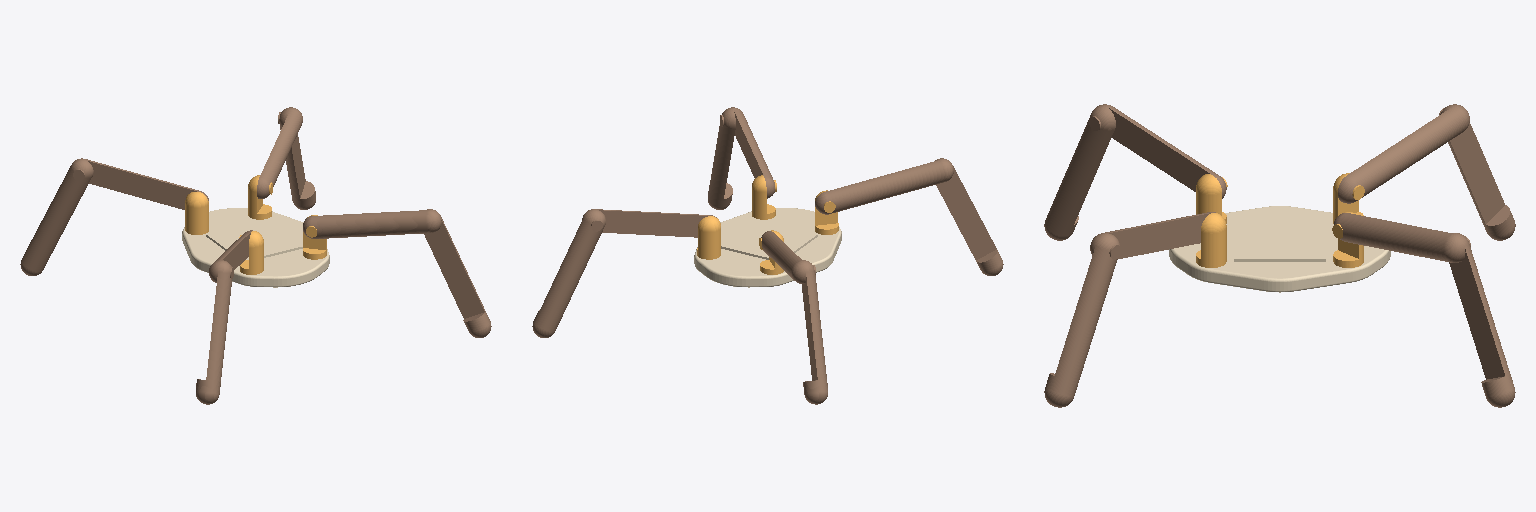
robot.urdf — droid:
<?xml version="1.0" ?>
<!-- Generated using onshape-to-robot -->
<!-- Onshape https://cad.onshape.com/documents/39d48276447cd48c86498015/w/39b3d8215a40ceebd5846695/e/a41b11f439c5da9336695592 -->
<robot name="droid">
  <!-- Link base_link -->
  <link name="base_link">
    <inertial>
      <origin xyz="0 0 0" rpy="0 0 0"/>
      <mass value="1e-09"/>
      <inertia ixx="1e-09" ixy="0" ixz="0" iyy="1e-09" iyz="0" izz="1e-09"/>
    </inertial>
  </link>
  <!-- Link body -->
  <link name="body">
    <inertial>
      <origin xyz="0 -0 0.00260792" rpy="0 0 0"/>
      <mass value="0.0199018"/>
      <inertia ixx="6.11183e-06" ixy="0" ixz="0" iyy="3.7272e-06" iyz="0" izz="9.7415e-06"/>
    </inertial>
    <!-- Part body -->
    <visual>
      <origin xyz="0.0202915 -0 0" rpy="0 -0 0"/>
      <geometry>
        <mesh filename="package://speeder_description/assets/body.stl"/>
      </geometry>
      <material name="body_material">
        <color rgba="0.952941 0.894118 0.788235 1"/>
      </material>
    </visual>
    <collision>
      <origin xyz="0.0202915 -0 0" rpy="0 -0 0"/>
      <geometry>
        <mesh filename="package://speeder_description/assets/body.stl"/>
      </geometry>
    </collision>
  </link>
  <!-- Link base_arm -->
  <link name="base_arm">
    <inertial>
      <origin xyz="0 -0.000821445 -0.00846774" rpy="0 0 0"/>
      <mass value="0.00126809"/>
      <inertia ixx="4.8105e-08" ixy="0" ixz="-0" iyy="4.813e-08" iyz="-2.117e-09" izz="1.4267e-08"/>
    </inertial>
    <!-- Part base_arm -->
    <visual>
      <origin xyz="0.0411943 -0.00227465 0" rpy="3.14159 -0 0"/>
      <geometry>
        <mesh filename="package://speeder_description/assets/base_arm.stl"/>
      </geometry>
      <material name="base_arm_material">
        <color rgba="1 0.772549 0.439216 1"/>
      </material>
    </visual>
    <collision>
      <origin xyz="0.0411943 -0.00227465 0" rpy="3.14159 -0 0"/>
      <geometry>
        <mesh filename="package://speeder_description/assets/base_arm.stl"/>
      </geometry>
    </collision>
  </link>
  <!-- Link first_leg_1 -->
  <link name="first_leg_1">
    <inertial>
      <origin xyz="1.1904e-08 -0.0271462 0.00315744" rpy="0 0 0"/>
      <mass value="0.00278753"/>
      <inertia ixx="7.46524e-07" ixy="0" ixz="0" iyy="2.4267e-08" iyz="1.1974e-08" izz="7.56242e-07"/>
    </inertial>
    <!-- Part arm1 -->
    <visual>
      <origin xyz="0.0211943 0.015 -0.00518933" rpy="1.5708 -0 -0"/>
      <geometry>
        <mesh filename="package://speeder_description/assets/arm1.stl"/>
      </geometry>
      <material name="arm1_material">
        <color rgba="0.662745 0.545098 0.462745 1"/>
      </material>
    </visual>
    <collision>
      <origin xyz="0.0211943 0.015 -0.00518933" rpy="1.5708 -0 -0"/>
      <geometry>
        <mesh filename="package://speeder_description/assets/arm1.stl"/>
      </geometry>
    </collision>
  </link>
  <!-- Link second_leg_1 -->
  <link name="second_leg_1">
    <inertial>
      <origin xyz="-1.008e-09 -0.0291753 0.00350177" rpy="0 0 0"/>
      <mass value="0.00307395"/>
      <inertia ixx="8.76015e-07" ixy="0" ixz="-0" iyy="3.0359e-08" iyz="3.2666e-08" izz="8.83959e-07"/>
    </inertial>
    <!-- Part arm2 -->
    <visual>
      <origin xyz="0.0411943 -0.065 0.00276138" rpy="-1.5708 0 0"/>
      <geometry>
        <mesh filename="package://speeder_description/assets/arm2.stl"/>
      </geometry>
      <material name="arm2_material">
        <color rgba="0.662745 0.545098 0.462745 1"/>
      </material>
    </visual>
    <collision>
      <origin xyz="0.0411943 -0.065 0.00276138" rpy="-1.5708 0 0"/>
      <geometry>
        <mesh filename="package://speeder_description/assets/arm2.stl"/>
      </geometry>
    </collision>
  </link>
  <!-- Joint from first_leg_1 to second_leg_1 -->
  <joint name="second_leg_1" type="revolute">
    <origin xyz="-0 -0.05 0.010036" rpy="-3.14159 0 -1.8326"/>
    <parent link="first_leg_1"/>
    <child link="second_leg_1"/>
    <axis xyz="0 0 1"/>
    <limit effort="10" velocity="10" lower="-1.5708" upper="1.13446"/>
  </joint>
  <!-- Joint from base_arm to first_leg_1 -->
  <joint name="first_leg_1" type="revolute">
    <origin xyz="-0 0.005 -0.015" rpy="1.5708 -1.39626 -0"/>
    <parent link="base_arm"/>
    <child link="first_leg_1"/>
    <axis xyz="0 0 1"/>
    <limit effort="10" velocity="10" lower="-1.22173" upper="0.785398"/>
  </joint>
  <!-- Joint from body to base_arm -->
  <joint name="base_leg_1" type="revolute">
    <origin xyz="-0.015 -0.0225 0.0025" rpy="-3.14159 -0 -2.35619"/>
    <parent link="body"/>
    <child link="base_arm"/>
    <axis xyz="0 0 1"/>
    <limit effort="10" velocity="10" lower="-1.39626" upper="1.39626"/>
  </joint>
  <!-- Link base_arm_2 -->
  <link name="base_arm_2">
    <inertial>
      <origin xyz="0 -0.000821445 -0.00846774" rpy="0 0 0"/>
      <mass value="0.00126809"/>
      <inertia ixx="4.8105e-08" ixy="-0" ixz="0" iyy="4.813e-08" iyz="-2.117e-09" izz="1.4267e-08"/>
    </inertial>
    <!-- Part base_arm_2 -->
    <visual>
      <origin xyz="0.0411943 -0.00227465 0" rpy="3.14159 -0 -0"/>
      <geometry>
        <mesh filename="package://speeder_description/assets/base_arm.stl"/>
      </geometry>
      <material name="base_arm_2_material">
        <color rgba="1 0.772549 0.439216 1"/>
      </material>
    </visual>
    <collision>
      <origin xyz="0.0411943 -0.00227465 0" rpy="3.14159 -0 -0"/>
      <geometry>
        <mesh filename="package://speeder_description/assets/base_arm.stl"/>
      </geometry>
    </collision>
  </link>
  <!-- Link first_leg_2 -->
  <link name="first_leg_2">
    <inertial>
      <origin xyz="1.1904e-08 -0.0271462 0.00315744" rpy="0 0 0"/>
      <mass value="0.00278753"/>
      <inertia ixx="7.46524e-07" ixy="0" ixz="0" iyy="2.4267e-08" iyz="1.1974e-08" izz="7.56242e-07"/>
    </inertial>
    <!-- Part arm1_2 -->
    <visual>
      <origin xyz="0.0211943 0.015 -0.00518933" rpy="1.5708 -0 -0"/>
      <geometry>
        <mesh filename="package://speeder_description/assets/arm1.stl"/>
      </geometry>
      <material name="arm1_2_material">
        <color rgba="0.662745 0.545098 0.462745 1"/>
      </material>
    </visual>
    <collision>
      <origin xyz="0.0211943 0.015 -0.00518933" rpy="1.5708 -0 -0"/>
      <geometry>
        <mesh filename="package://speeder_description/assets/arm1.stl"/>
      </geometry>
    </collision>
  </link>
  <!-- Link second_leg_2 -->
  <link name="second_leg_2">
    <inertial>
      <origin xyz="-1.008e-09 -0.0291753 0.00350177" rpy="0 0 0"/>
      <mass value="0.00307395"/>
      <inertia ixx="8.76015e-07" ixy="0" ixz="-0" iyy="3.0359e-08" iyz="3.2666e-08" izz="8.83959e-07"/>
    </inertial>
    <!-- Part arm2_2 -->
    <visual>
      <origin xyz="0.0411943 -0.065 0.00276138" rpy="-1.5708 0 -0"/>
      <geometry>
        <mesh filename="package://speeder_description/assets/arm2.stl"/>
      </geometry>
      <material name="arm2_2_material">
        <color rgba="0.662745 0.545098 0.462745 1"/>
      </material>
    </visual>
    <collision>
      <origin xyz="0.0411943 -0.065 0.00276138" rpy="-1.5708 0 -0"/>
      <geometry>
        <mesh filename="package://speeder_description/assets/arm2.stl"/>
      </geometry>
    </collision>
  </link>
  <!-- Joint from first_leg_2 to second_leg_2 -->
  <joint name="second_leg_2" type="revolute">
    <origin xyz="-0 -0.05 0.010036" rpy="3.14159 0 -1.8326"/>
    <parent link="first_leg_2"/>
    <child link="second_leg_2"/>
    <axis xyz="0 0 1"/>
    <limit effort="10" velocity="10" lower="-1.5708" upper="1.13446"/>
  </joint>
  <!-- Joint from base_arm_2 to first_leg_2 -->
  <joint name="first_leg_2" type="revolute">
    <origin xyz="-0 0.005 -0.015" rpy="1.5708 -1.39626 -0"/>
    <parent link="base_arm_2"/>
    <child link="first_leg_2"/>
    <axis xyz="0 0 1"/>
    <limit effort="10" velocity="10" lower="-1.22173" upper="0.785398"/>
  </joint>
  <!-- Joint from body to base_arm_2 -->
  <joint name="base_leg_2" type="revolute">
    <origin xyz="-0.015 0.0225 0.0025" rpy="-3.14159 -0 2.35619"/>
    <parent link="body"/>
    <child link="base_arm_2"/>
    <axis xyz="0 0 1"/>
    <limit effort="10" velocity="10" lower="-1.5708" upper="1.5708"/>
  </joint>
  <!-- Link base_arm_3 -->
  <link name="base_arm_3">
    <inertial>
      <origin xyz="0 -0.000821445 -0.00846774" rpy="0 0 0"/>
      <mass value="0.00126809"/>
      <inertia ixx="4.8105e-08" ixy="0" ixz="-0" iyy="4.813e-08" iyz="-2.117e-09" izz="1.4267e-08"/>
    </inertial>
    <!-- Part base_arm_3 -->
    <visual>
      <origin xyz="0.0411943 -0.00227465 0" rpy="3.14159 0 0"/>
      <geometry>
        <mesh filename="package://speeder_description/assets/base_arm.stl"/>
      </geometry>
      <material name="base_arm_3_material">
        <color rgba="1 0.772549 0.439216 1"/>
      </material>
    </visual>
    <collision>
      <origin xyz="0.0411943 -0.00227465 0" rpy="3.14159 0 0"/>
      <geometry>
        <mesh filename="package://speeder_description/assets/base_arm.stl"/>
      </geometry>
    </collision>
  </link>
  <!-- Link first_leg_3 -->
  <link name="first_leg_3">
    <inertial>
      <origin xyz="1.1904e-08 -0.0271462 0.00315744" rpy="0 0 0"/>
      <mass value="0.00278753"/>
      <inertia ixx="7.46524e-07" ixy="0" ixz="0" iyy="2.4267e-08" iyz="1.1974e-08" izz="7.56242e-07"/>
    </inertial>
    <!-- Part arm1_3 -->
    <visual>
      <origin xyz="0.0211943 0.015 -0.00518933" rpy="1.5708 -0 0"/>
      <geometry>
        <mesh filename="package://speeder_description/assets/arm1.stl"/>
      </geometry>
      <material name="arm1_3_material">
        <color rgba="0.662745 0.545098 0.462745 1"/>
      </material>
    </visual>
    <collision>
      <origin xyz="0.0211943 0.015 -0.00518933" rpy="1.5708 -0 0"/>
      <geometry>
        <mesh filename="package://speeder_description/assets/arm1.stl"/>
      </geometry>
    </collision>
  </link>
  <!-- Link second_leg_3 -->
  <link name="second_leg_3">
    <inertial>
      <origin xyz="-1.008e-09 -0.0291753 0.00350177" rpy="0 0 0"/>
      <mass value="0.00307395"/>
      <inertia ixx="8.76015e-07" ixy="0" ixz="-0" iyy="3.0359e-08" iyz="3.2666e-08" izz="8.83959e-07"/>
    </inertial>
    <!-- Part arm2_3 -->
    <visual>
      <origin xyz="0.0411943 -0.065 0.00276138" rpy="-1.5708 0 -0"/>
      <geometry>
        <mesh filename="package://speeder_description/assets/arm2.stl"/>
      </geometry>
      <material name="arm2_3_material">
        <color rgba="0.662745 0.545098 0.462745 1"/>
      </material>
    </visual>
    <collision>
      <origin xyz="0.0411943 -0.065 0.00276138" rpy="-1.5708 0 -0"/>
      <geometry>
        <mesh filename="package://speeder_description/assets/arm2.stl"/>
      </geometry>
    </collision>
  </link>
  <!-- Joint from first_leg_3 to second_leg_3 -->
  <joint name="second_leg_3" type="revolute">
    <origin xyz="-0 -0.05 0.010036" rpy="3.14159 0 -1.8326"/>
    <parent link="first_leg_3"/>
    <child link="second_leg_3"/>
    <axis xyz="0 0 1"/>
    <limit effort="10" velocity="10" lower="-1.5708" upper="1.13446"/>
  </joint>
  <!-- Joint from base_arm_3 to first_leg_3 -->
  <joint name="first_leg_3" type="revolute">
    <origin xyz="-0 0.005 -0.015" rpy="1.5708 -1.39626 -0"/>
    <parent link="base_arm_3"/>
    <child link="first_leg_3"/>
    <axis xyz="0 0 1"/>
    <limit effort="10" velocity="10" lower="-1.22173" upper="0.785398"/>
  </joint>
  <!-- Joint from body to base_arm_3 -->
  <joint name="base_leg_3" type="revolute">
    <origin xyz="0.015 0.0225 0.0025" rpy="-3.14159 -0 0.785398"/>
    <parent link="body"/>
    <child link="base_arm_3"/>
    <axis xyz="0 0 1"/>
    <limit effort="10" velocity="10" lower="-1.5708" upper="1.5708"/>
  </joint>
  <!-- Link base_arm_4 -->
  <link name="base_arm_4">
    <inertial>
      <origin xyz="0 -0.000821445 -0.00846774" rpy="0 0 0"/>
      <mass value="0.00126809"/>
      <inertia ixx="4.8105e-08" ixy="0" ixz="-0" iyy="4.813e-08" iyz="-2.117e-09" izz="1.4267e-08"/>
    </inertial>
    <!-- Part base_arm_4 -->
    <visual>
      <origin xyz="0.0411943 -0.00227465 0" rpy="3.14159 -0 -0"/>
      <geometry>
        <mesh filename="package://speeder_description/assets/base_arm.stl"/>
      </geometry>
      <material name="base_arm_4_material">
        <color rgba="1 0.772549 0.439216 1"/>
      </material>
    </visual>
    <collision>
      <origin xyz="0.0411943 -0.00227465 0" rpy="3.14159 -0 -0"/>
      <geometry>
        <mesh filename="package://speeder_description/assets/base_arm.stl"/>
      </geometry>
    </collision>
  </link>
  <!-- Link first_leg_4 -->
  <link name="first_leg_4">
    <inertial>
      <origin xyz="1.1904e-08 -0.0271462 0.00315744" rpy="0 0 0"/>
      <mass value="0.00278753"/>
      <inertia ixx="7.46524e-07" ixy="0" ixz="0" iyy="2.4267e-08" iyz="1.1974e-08" izz="7.56242e-07"/>
    </inertial>
    <!-- Part arm1_4 -->
    <visual>
      <origin xyz="0.0211943 0.015 -0.00518933" rpy="1.5708 -0 0"/>
      <geometry>
        <mesh filename="package://speeder_description/assets/arm1.stl"/>
      </geometry>
      <material name="arm1_4_material">
        <color rgba="0.662745 0.545098 0.462745 1"/>
      </material>
    </visual>
    <collision>
      <origin xyz="0.0211943 0.015 -0.00518933" rpy="1.5708 -0 0"/>
      <geometry>
        <mesh filename="package://speeder_description/assets/arm1.stl"/>
      </geometry>
    </collision>
  </link>
  <!-- Link second_leg_4 -->
  <link name="second_leg_4">
    <inertial>
      <origin xyz="-1.008e-09 -0.0291753 0.00350177" rpy="0 0 0"/>
      <mass value="0.00307395"/>
      <inertia ixx="8.76015e-07" ixy="0" ixz="-0" iyy="3.0359e-08" iyz="3.2666e-08" izz="8.83959e-07"/>
    </inertial>
    <!-- Part arm2_4 -->
    <visual>
      <origin xyz="0.0411943 -0.065 0.00276138" rpy="-1.5708 0 -0"/>
      <geometry>
        <mesh filename="package://speeder_description/assets/arm2.stl"/>
      </geometry>
      <material name="arm2_4_material">
        <color rgba="0.662745 0.545098 0.462745 1"/>
      </material>
    </visual>
    <collision>
      <origin xyz="0.0411943 -0.065 0.00276138" rpy="-1.5708 0 -0"/>
      <geometry>
        <mesh filename="package://speeder_description/assets/arm2.stl"/>
      </geometry>
    </collision>
  </link>
  <!-- Joint from first_leg_4 to second_leg_4 -->
  <joint name="second_leg_4" type="revolute">
    <origin xyz="-0 -0.05 0.010036" rpy="3.14159 0 -1.8326"/>
    <parent link="first_leg_4"/>
    <child link="second_leg_4"/>
    <axis xyz="0 0 1"/>
    <limit effort="10" velocity="10" lower="-1.5708" upper="1.13446"/>
  </joint>
  <!-- Joint from base_arm_4 to first_leg_4 -->
  <joint name="first_leg_4" type="revolute">
    <origin xyz="0 0.005 -0.015" rpy="1.5708 -1.39626 -0"/>
    <parent link="base_arm_4"/>
    <child link="first_leg_4"/>
    <axis xyz="0 0 1"/>
    <limit effort="10" velocity="10" lower="-1.22173" upper="0.785398"/>
  </joint>
  <!-- Joint from body to base_arm_4 -->
  <joint name="base_leg_4" type="revolute">
    <origin xyz="0.015 -0.0225 0.0025" rpy="3.14159 -0 -0.785398"/>
    <parent link="body"/>
    <child link="base_arm_4"/>
    <axis xyz="0 0 1"/>
    <limit effort="10" velocity="10" lower="-1.5708" upper="1.5708"/>
  </joint>
  <!-- Joint from base_link to body -->
  <joint name="base_link_to_body" type="fixed">
    <origin xyz="0 0 0" rpy="0 -0 0"/>
    <parent link="base_link"/>
    <child link="body"/>
    <axis xyz="0 0 1"/>
    <limit effort="10" velocity="10"/>
  </joint>
</robot>

--- Facts derived from the render (not from the file) ---
Views: 3 orthographic renders of the robot side by side, from view 1: azimuth 30°, elevation 25°; view 2: azimuth 150°, elevation 25°; view 3: azimuth 270°, elevation 25°.
Robot: droid — 14 links, 13 joints (12 revolute, 1 fixed); root link base_link; default pose: all joints at 0.
Visible links, largest first — view 1: body, first_leg_4, second_leg_2, second_leg_4, first_leg_2, second_leg_1, first_leg_3, second_leg_3, base_arm_2, first_leg_1, base_arm, base_arm_3 (+1 smaller); view 2: body, first_leg_1, second_leg_3, second_leg_1, first_leg_3, second_leg_2, second_leg_4, first_leg_4, first_leg_2, base_arm_3, base_arm_4, base_arm; view 3: body, second_leg_4, second_leg_3, first_leg_2, second_leg_1, first_leg_3, second_leg_2, first_leg_1, first_leg_4, base_arm_4, base_arm, base_arm_3 (+1 smaller).
Link boxes in pixels (<box>): body: <box>182,208,329,287</box>; first_leg_4: <box>303,210,441,238</box>; second_leg_2: <box>20,159,93,275</box>; second_leg_4: <box>424,209,491,337</box>; first_leg_2: <box>73,158,208,209</box>; second_leg_1: <box>196,260,231,404</box>; first_leg_3: <box>257,107,302,198</box>; second_leg_3: <box>279,107,315,209</box>; base_arm_2: <box>185,192,208,234</box>; first_leg_1: <box>209,230,252,282</box>; base_arm: <box>239,231,263,274</box>; base_arm_3: <box>248,175,272,219</box>; body: <box>694,208,841,287</box>; first_leg_1: <box>815,159,953,214</box>; second_leg_3: <box>532,210,605,337</box>; second_leg_1: <box>935,158,1003,275</box>; first_leg_3: <box>582,209,716,237</box>; second_leg_2: <box>802,260,827,404</box>; second_leg_4: <box>708,107,735,209</box>; first_leg_4: <box>720,107,774,198</box>; first_leg_2: <box>761,231,815,283</box>; base_arm_3: <box>697,216,720,259</box>; base_arm_4: <box>752,175,776,219</box>; base_arm: <box>815,190,838,234</box>; body: <box>1169,206,1390,292</box>; second_leg_4: <box>1044,233,1119,407</box>; second_leg_3: <box>1449,233,1515,407</box>; first_leg_2: <box>1338,105,1469,203</box>; second_leg_1: <box>1044,105,1115,240</box>; first_leg_3: <box>1334,213,1470,262</box>; second_leg_2: <box>1440,104,1515,240</box>; first_leg_1: <box>1089,104,1226,198</box>; first_leg_4: <box>1090,212,1215,259</box>; base_arm_4: <box>1196,213,1226,267</box>; base_arm: <box>1196,174,1227,223</box>; base_arm_3: <box>1332,212,1363,267</box>.
Bounding box of the posed robot: 0.1395 × 0.1545 × 0.0553 m (x, y, z).
13 mesh visuals loaded from 4 distinct referenced files (4 binary STL).
